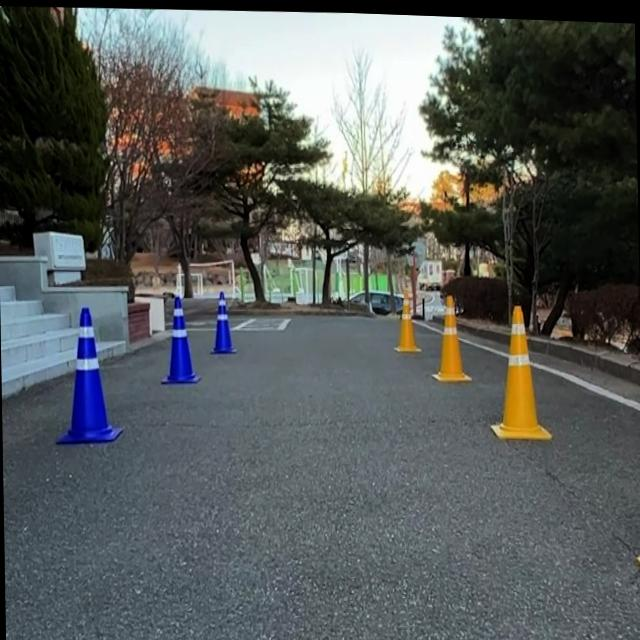b_rub: (55, 307, 122, 443), (161, 294, 200, 382), (210, 289, 236, 352)
y_rub: (492, 301, 553, 435), (433, 291, 473, 379), (394, 288, 421, 349)
